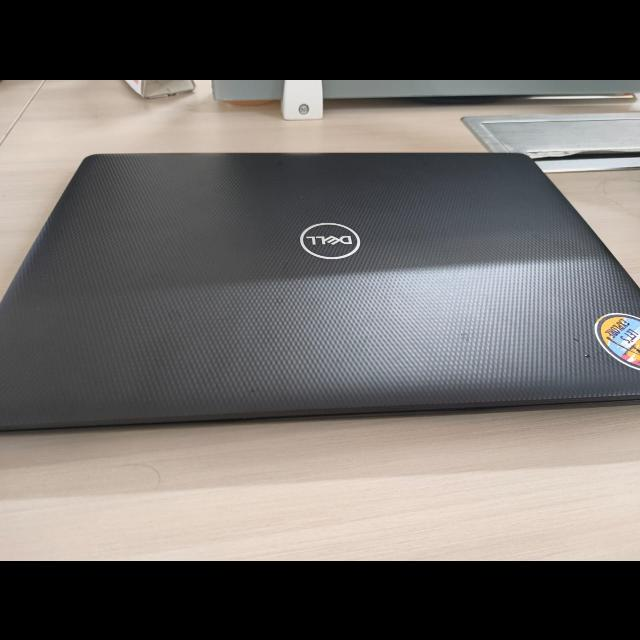laptop: (0, 152, 640, 476)
